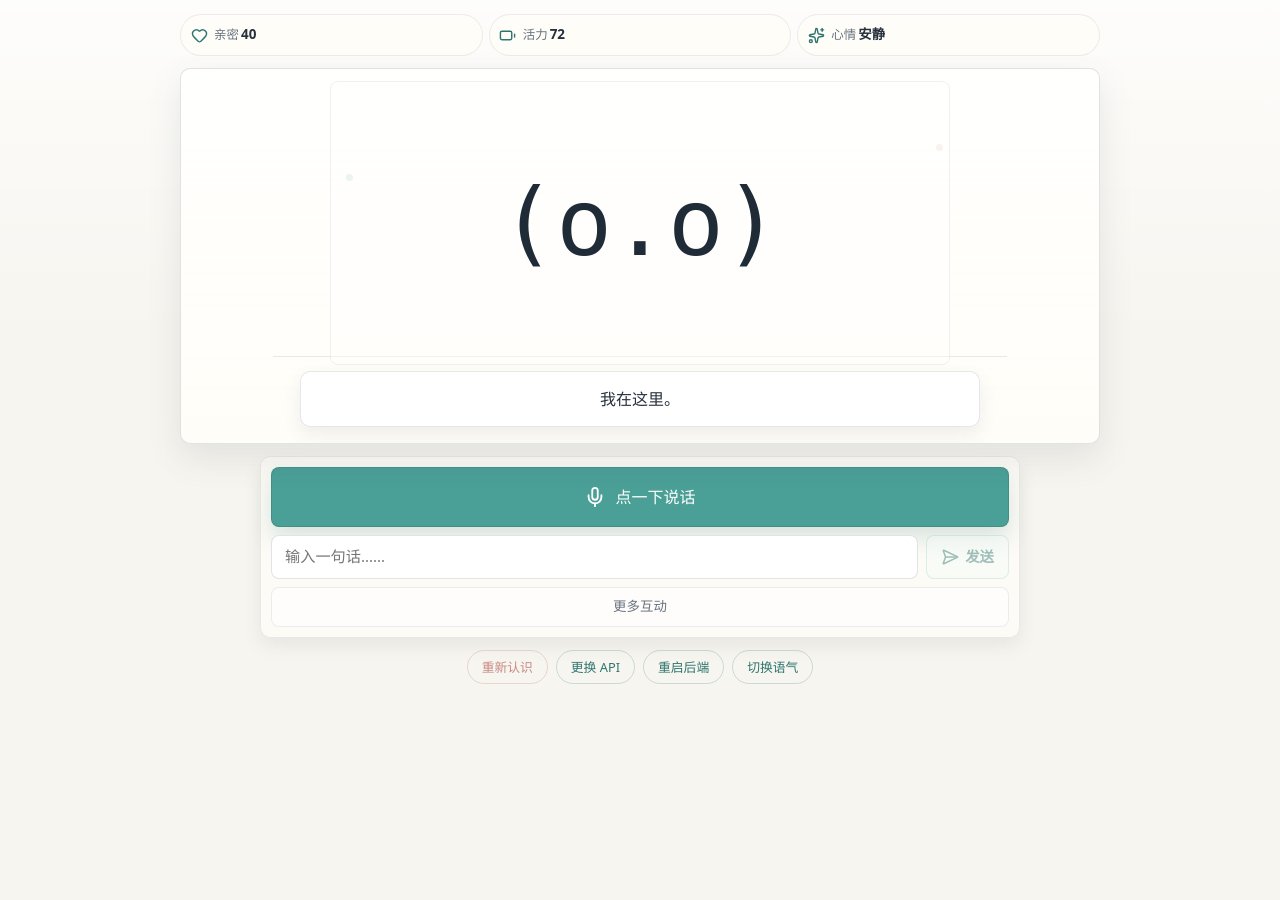
text chat › fast reply still starts audio polling while kaomoji remains responsive
Step 1. Type "早上好" into the field with placeholder "输入一句话……" → (595, 557), box top-left (271, 535), bottom-right (918, 579)
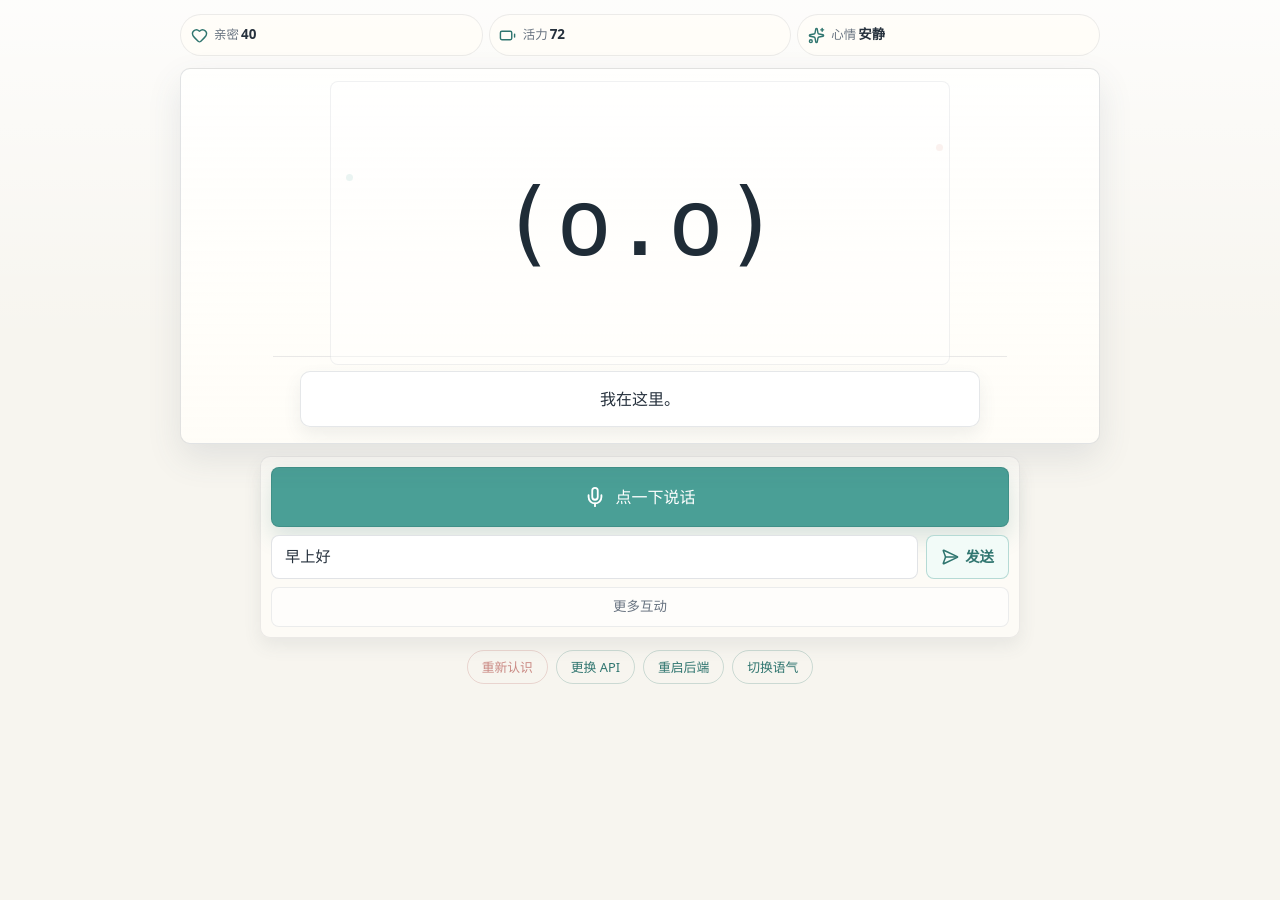
Step 2. Click the button "发送" → (968, 557), box top-left (926, 535), bottom-right (1009, 579)
Wait 700 ms
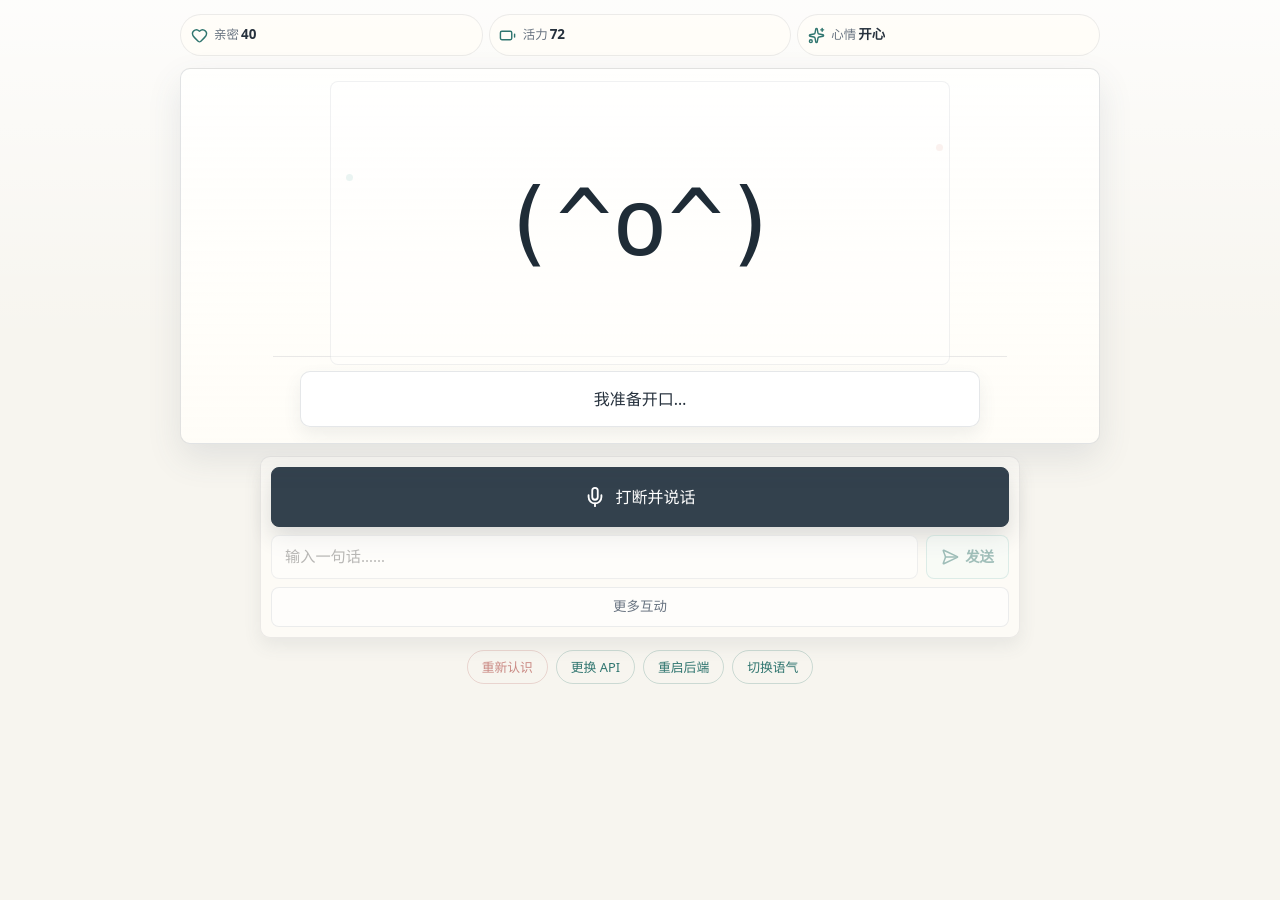
expect the text "我准备开口…" is shown: met, box top-left (300, 371), bottom-right (980, 427)
